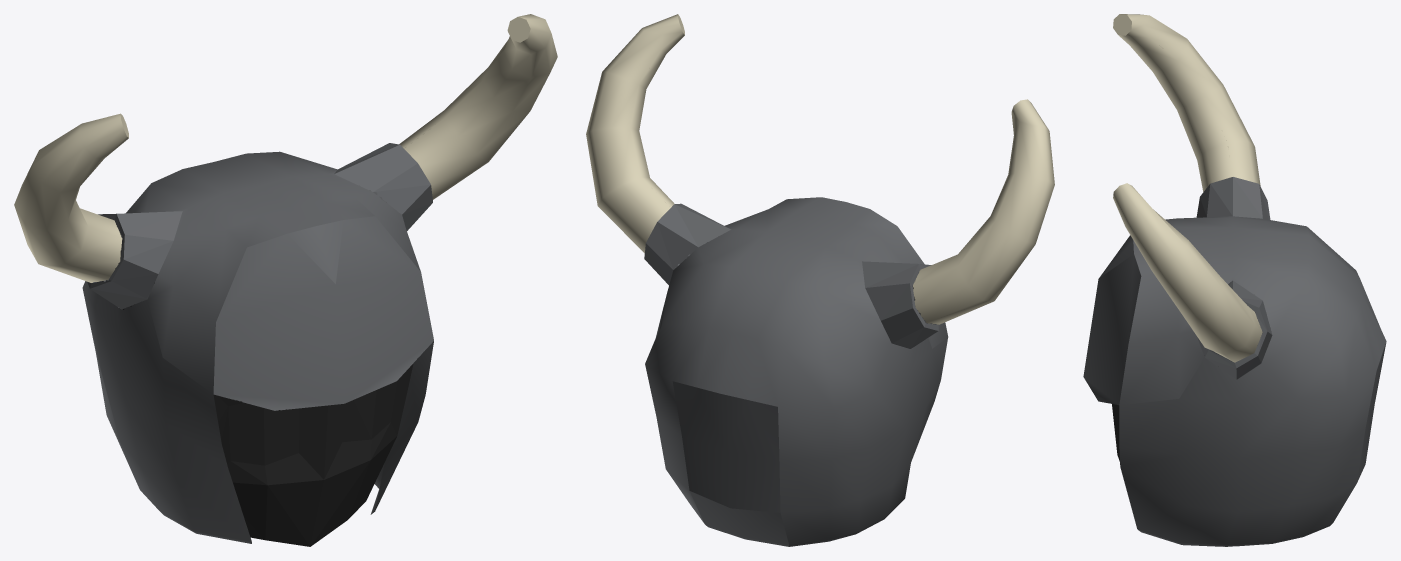
The model's file is Cursed_Head.FBX.
The picture shows the model from 3 angles, left to right: view 1: azimuth 30°, elevation 25°; view 2: azimuth 150°, elevation 25°; view 3: azimuth 270°, elevation 25°; orthographic projection. The views are drawn at different scales.
Visible parts, largest first — view 1: Helmet_principal; view 2: Helmet_principal; view 3: Helmet_principal.
Part boxes in pixels (bbox=[...]): Helmet_principal: bbox=[14, 14, 557, 546]; Helmet_principal: bbox=[586, 14, 1054, 546]; Helmet_principal: bbox=[1083, 14, 1386, 546].
Bounding box in the file's own units: 54.42 × 49.41 × 31.86.
Materials: 1 (1 with a texture image).
